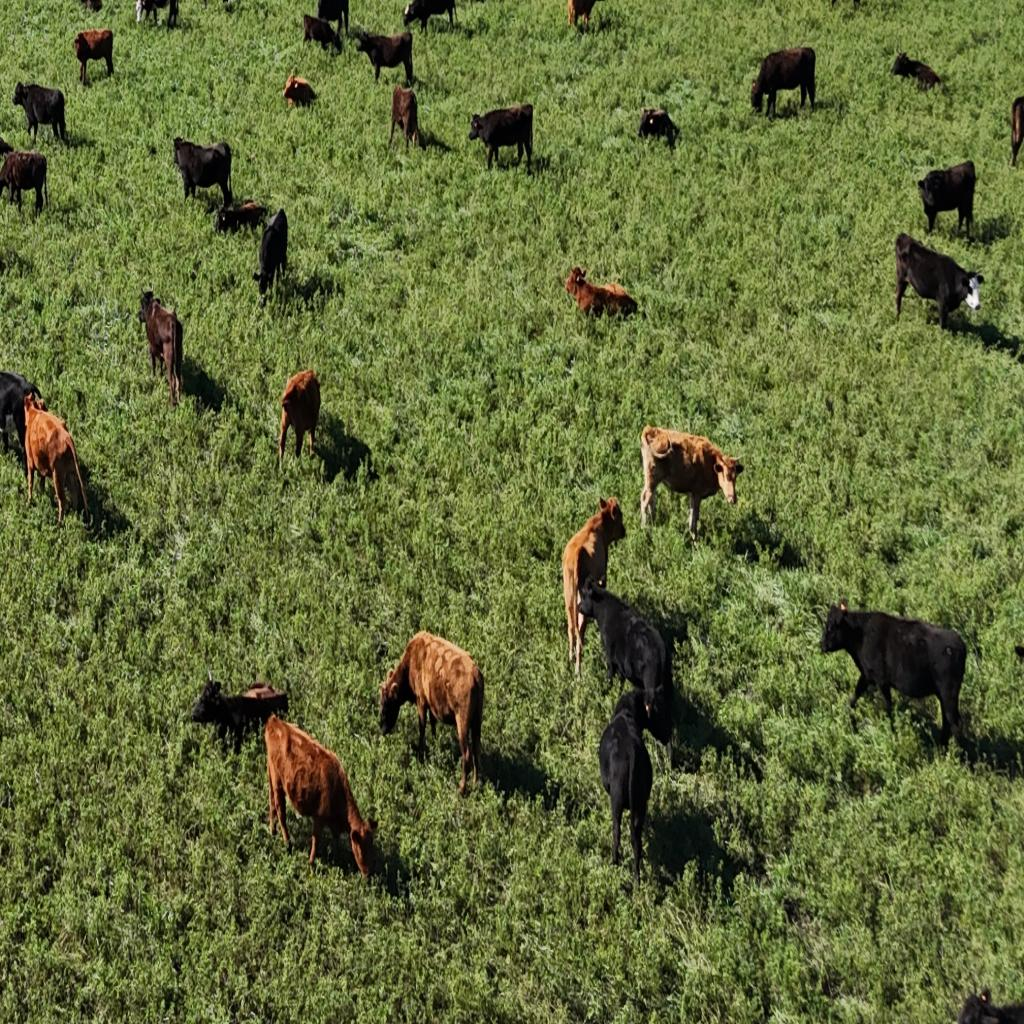cow: (820, 600, 969, 752), (262, 711, 380, 878), (380, 628, 488, 794), (576, 579, 673, 752), (640, 425, 744, 546), (598, 688, 658, 889), (561, 498, 624, 674), (23, 390, 89, 524), (893, 234, 985, 330), (190, 674, 288, 755), (138, 288, 184, 404), (748, 45, 816, 119), (916, 160, 976, 238), (172, 137, 232, 211), (470, 102, 532, 171), (278, 370, 320, 466), (568, 265, 638, 320), (354, 24, 414, 86), (0, 369, 40, 458), (13, 80, 67, 144), (253, 208, 287, 303), (0, 150, 48, 216), (955, 982, 1024, 1022), (73, 28, 113, 86), (388, 85, 421, 153), (890, 50, 941, 91), (636, 107, 678, 151), (215, 201, 266, 237), (302, 12, 342, 56), (402, 0, 454, 32), (283, 70, 316, 110), (1007, 95, 1024, 169), (316, 0, 350, 36), (136, 0, 176, 29), (569, 0, 599, 30), (890, 50, 912, 77), (828, 0, 860, 15), (77, 0, 102, 14)
